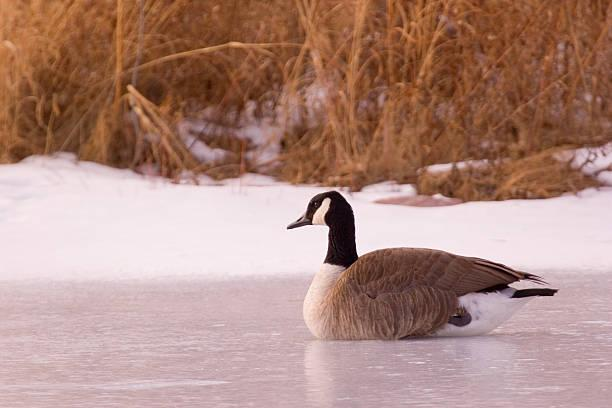Canadian-Goose: (287, 189, 562, 345)
